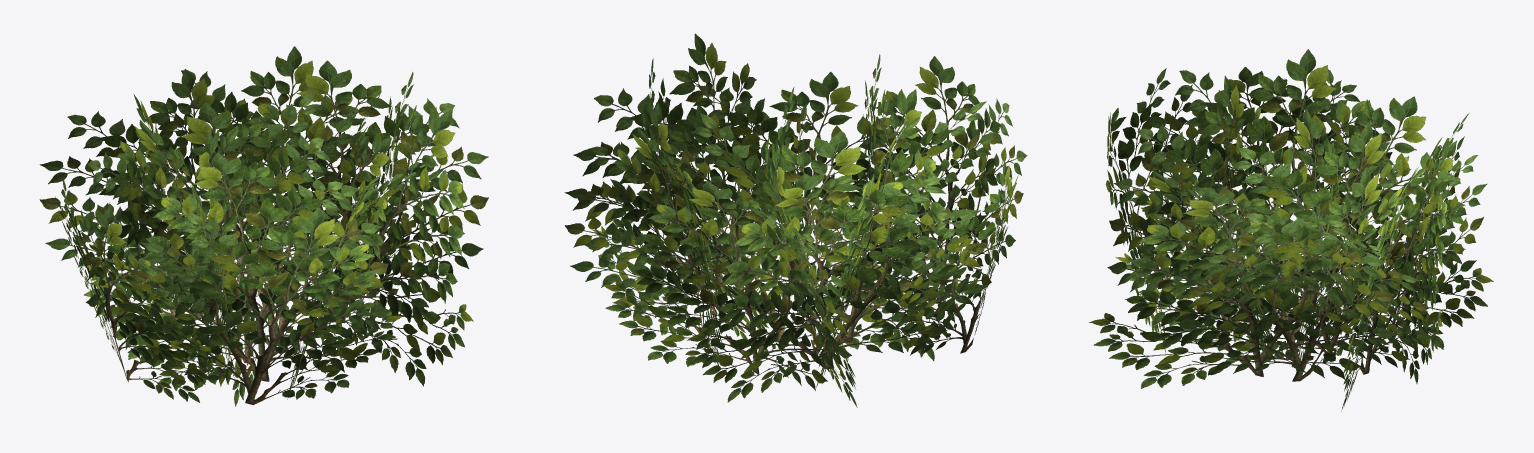
File: HH_Bushes_01.fbx
3 views of the same model, side by side, from view 1: azimuth 30°, elevation 25°; view 2: azimuth 150°, elevation 25°; view 3: azimuth 270°, elevation 25° (orthographic). The views are drawn at different scales.
Visible parts, largest first — view 1: HH_Bushes_01; view 2: HH_Bushes_01; view 3: HH_Bushes_01.
Boxes of the visible parts, bbox=[...] form: HH_Bushes_01: bbox=[39, 46, 488, 406]; HH_Bushes_01: bbox=[564, 33, 1027, 407]; HH_Bushes_01: bbox=[1089, 49, 1493, 410].
Bounding box in the file's own units: 150 × 115 × 154.
